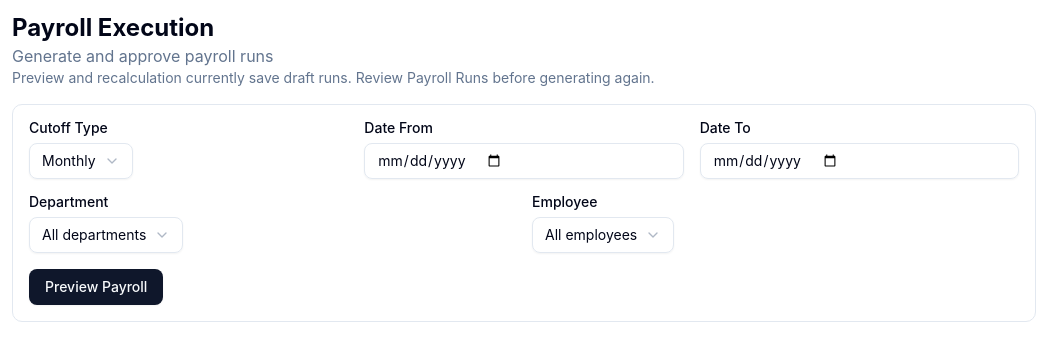
Test case: PayrollPage › locks uncertain generation edits and retries with the same identity and payload
The width and height of the screenshot is (1048, 339).
Type "2026-10-01" into the date field with test id "date-from-input" at {"x": 524, "y": 161}, box [364,143,684,179]
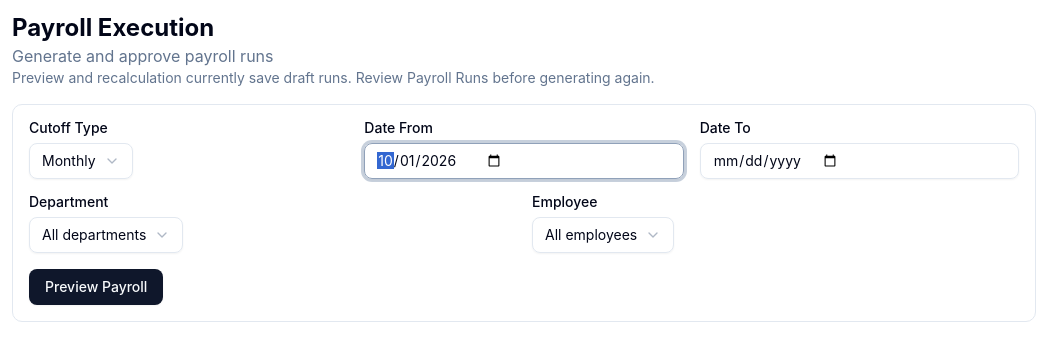
Type "2026-10-31" into the date field with test id "date-to-input" at {"x": 859, "y": 161}, box [700,143,1019,179]
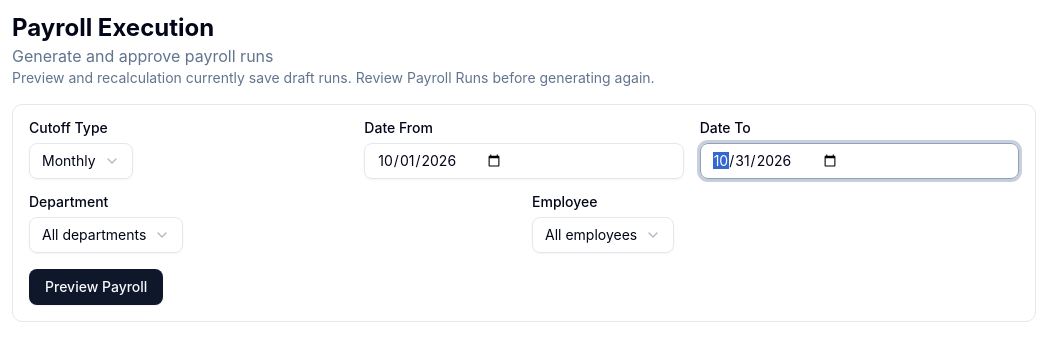
Click the button with test id "preview-payroll-button" at {"x": 96, "y": 287}, box [29,269,163,305]
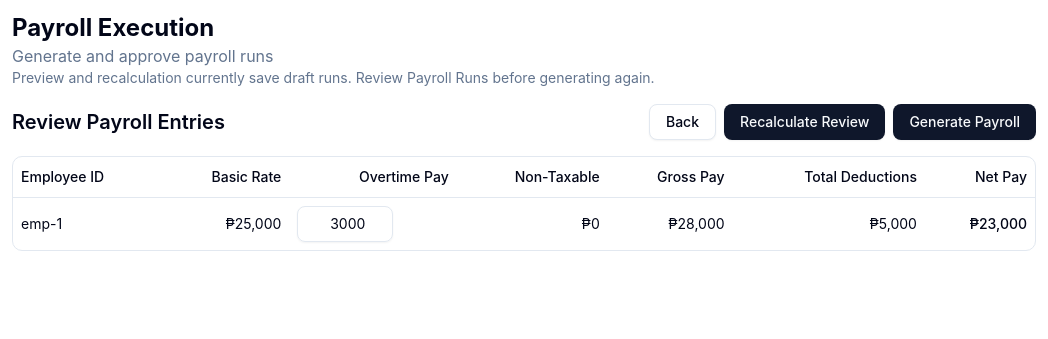
Check: the button with test id "proceed-to-review-button" is shown
Click the button with test id "proceed-to-review-button" at {"x": 965, "y": 122}, box [893,104,1036,140]
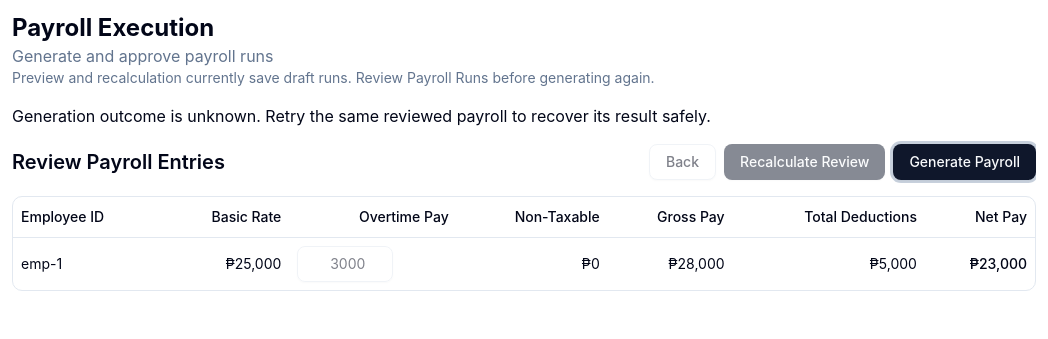
Check: the message with test id "generation-outcome-unknown" is shown, box [12,106,711,126]
Check: the button with test id "recalculate-payroll-button" is disabled, box [724,144,885,180]
Check: the number field with test id "edit-overtime-emp-1" is disabled, box [297,246,393,282]
Click the button with test id "proceed-to-review-button" at {"x": 965, "y": 162}, box [893,144,1036,180]
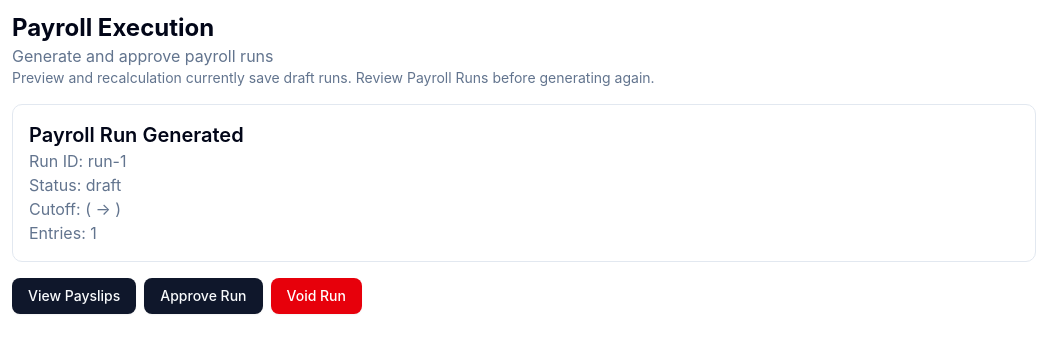
Check: the heading "Payroll Run Generated" is shown, box [29,123,244,147]
